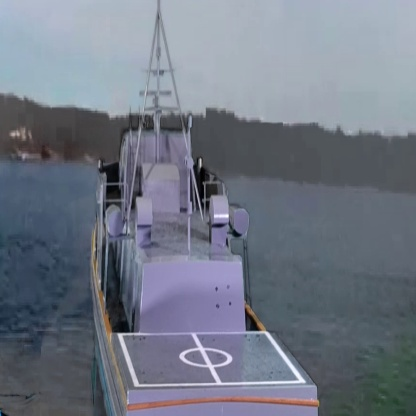YP689: (89, 0, 328, 416)
